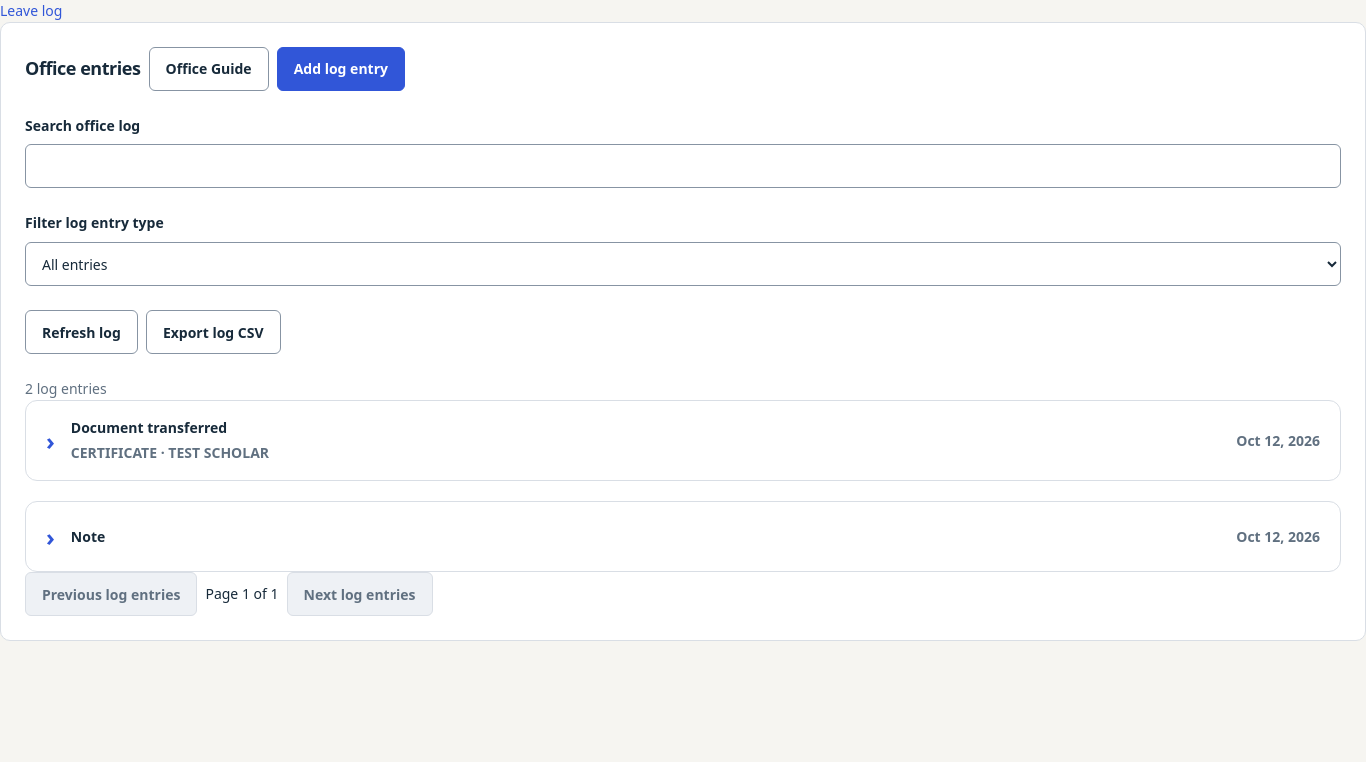
Test: stacked entries reveal their own details and retain native disclosure semantics
Click the heading "Document transferred CERTIFICATE · TEST SCHOLAR Oct 12, 2026" at (149, 427), box [71,418,1320,462]
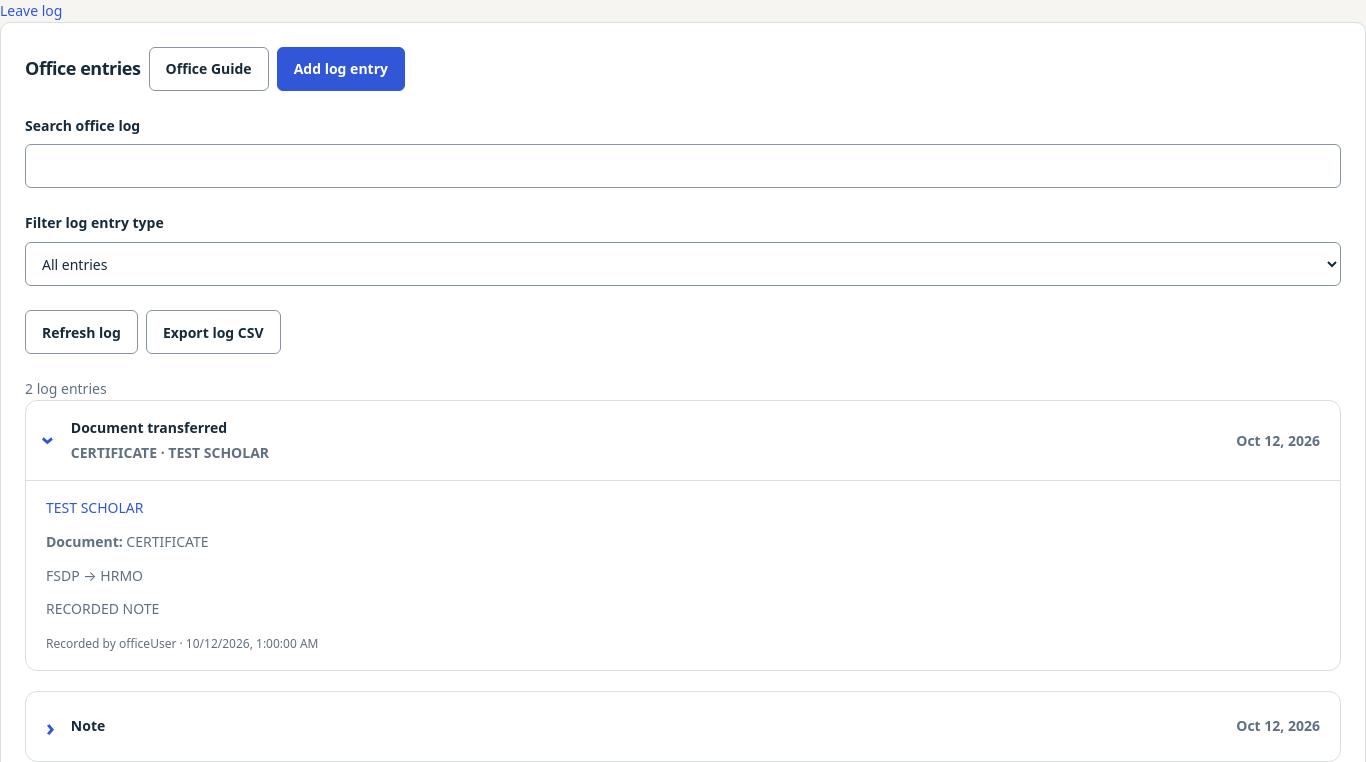
Check: the text "FSDP → HRMO" is shown, box [46,566,143,584]
Check: the text "Recorded by officeUser · 10/12/2026, 1:00:00 AM" is shown 2 times
